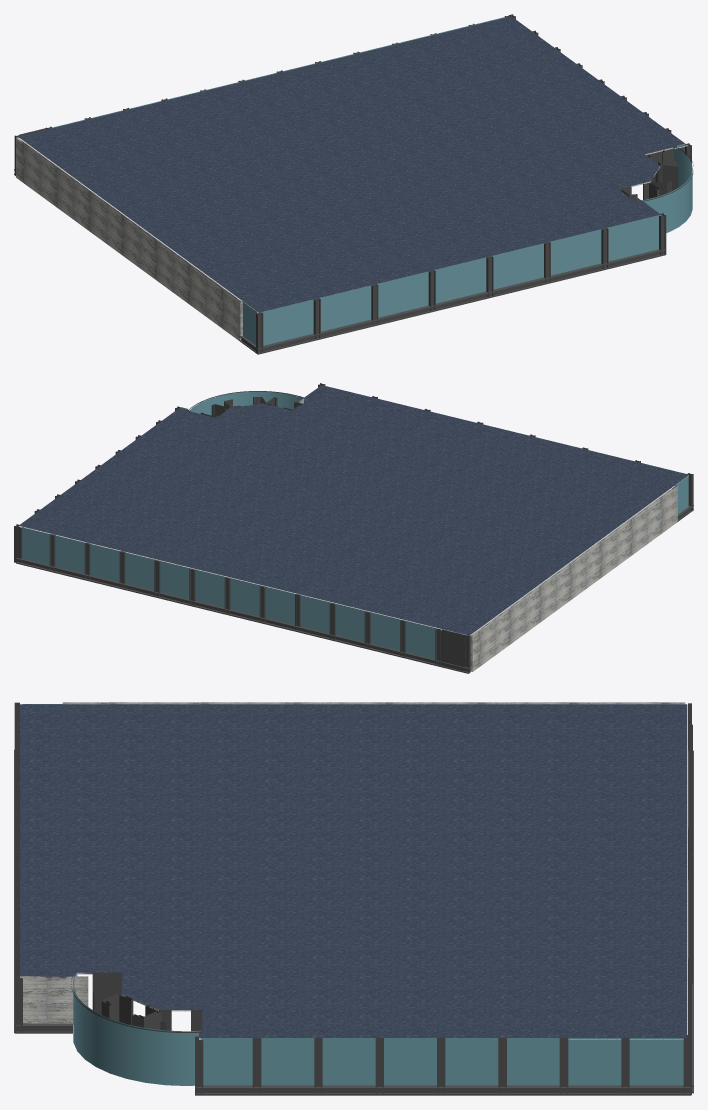
Rendered from office2_midle_LOD1.FBX.
The picture shows the model from 3 angles, top to bottom: view 1: azimuth 30°, elevation 25°; view 2: azimuth 150°, elevation 25°; view 3: azimuth 270°, elevation 25°; orthographic projection. The views are drawn at different scales.
Visible parts, largest first — view 1: floor002, glass002, walls003, structure002, ceiling002; view 2: floor002, glass002, structure002, walls003, ceiling002; view 3: floor002, glass002, structure002, walls003.
Part boxes in pixels (x1=…): floor002: x1=18, y1=16, x2=686, y2=312; glass002: x1=52, y1=15, x2=692, y2=345; walls003: x1=16, y1=137, x2=640, y2=340; structure002: x1=14, y1=14, x2=693, y2=354; ceiling002: x1=19, y1=138, x2=687, y2=312; floor002: x1=19, y1=385, x2=688, y2=635; glass002: x1=22, y1=391, x2=688, y2=658; structure002: x1=14, y1=383, x2=693, y2=673; walls003: x1=299, y1=398, x2=677, y2=671; ceiling002: x1=19, y1=398, x2=688, y2=635; floor002: x1=20, y1=704, x2=687, y2=1037; glass002: x1=23, y1=704, x2=689, y2=1085; structure002: x1=14, y1=702, x2=693, y2=1095; walls003: x1=22, y1=702, x2=685, y2=1024.
Size of the model in its own units: 7182 by 569 by 6104.
